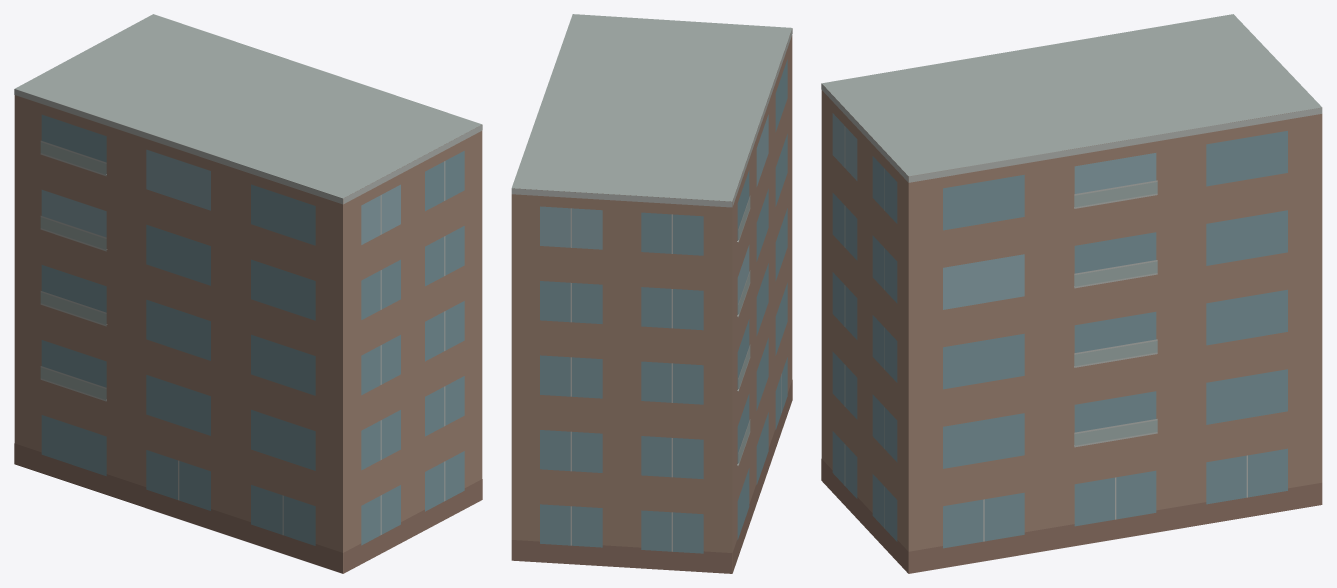
File: survey-upis-32725748.glb
3 views of the same model, side by side, from view 1: azimuth 30°, elevation 25°; view 2: azimuth 150°, elevation 25°; view 3: azimuth 270°, elevation 25° (orthographic). The views are drawn at different scales.
Parts seen in each view (by area): view 1: survey-upis-32725748.tmp; view 2: survey-upis-32725748.tmp; view 3: survey-upis-32725748.tmp.
Boxes of the visible parts, left/top/right/bottom form: survey-upis-32725748.tmp: left=14, top=14, right=482, bottom=573; survey-upis-32725748.tmp: left=511, top=14, right=792, bottom=573; survey-upis-32725748.tmp: left=821, top=14, right=1322, bottom=573.
Bounding box in the file's own units: 13.34 × 15.2 × 17.37.
